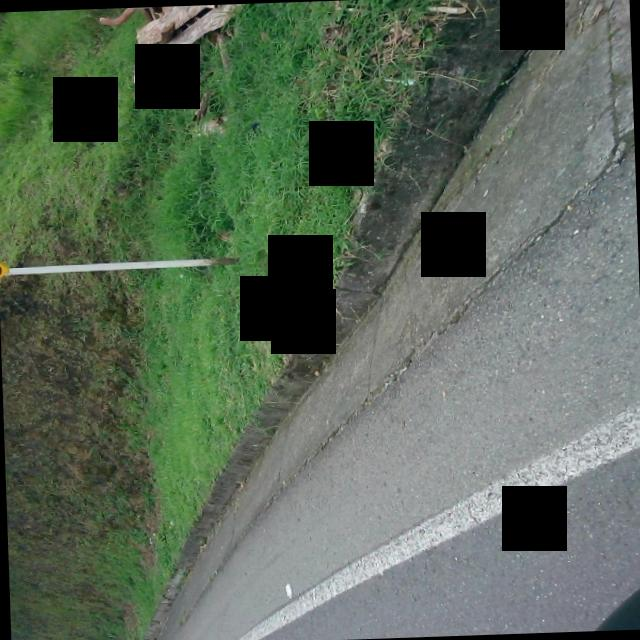DITCH: (120, 0, 640, 640), (135, 0, 640, 640)
